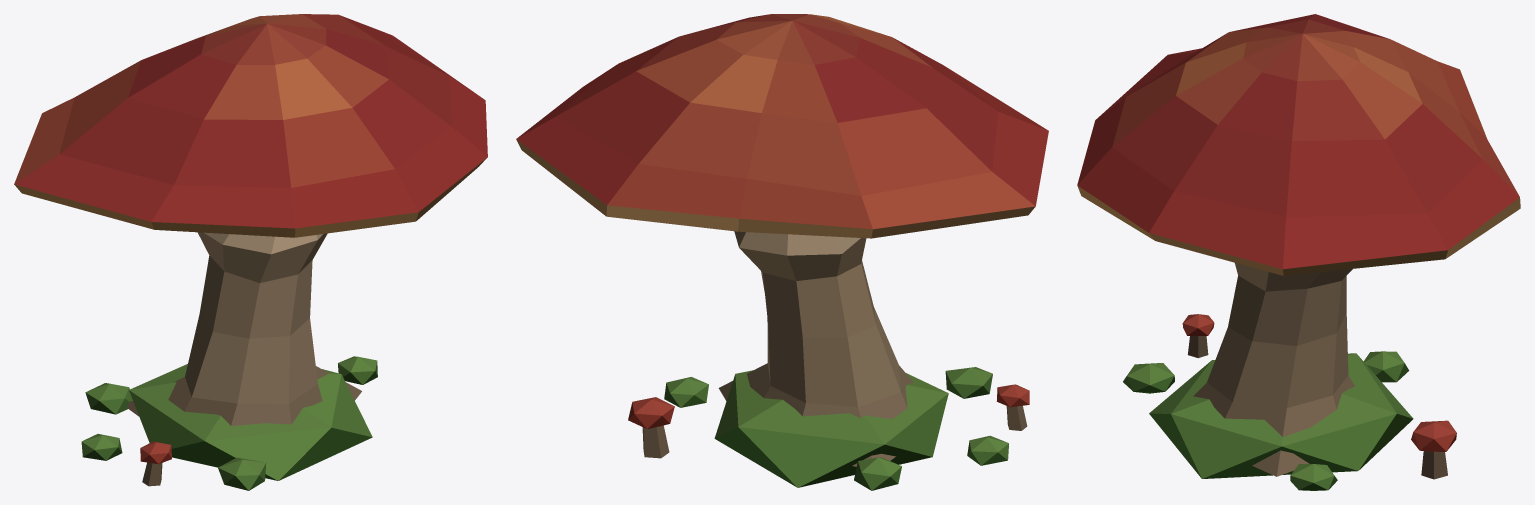
The model's file is Giant_Toadstool.glb.
3 renders of one model, left to right at view 1: azimuth 30°, elevation 25°; view 2: azimuth 150°, elevation 25°; view 3: azimuth 270°, elevation 25°, orthographic. The views are drawn at different scales.
Visible parts, largest first — view 1: Giant_Toadstool; view 2: Giant_Toadstool; view 3: Giant_Toadstool.
Boxes of the visible parts, x1,y1,x2,y2 form: Giant_Toadstool: (14,14,487,490); Giant_Toadstool: (516,14,1048,490); Giant_Toadstool: (1077,14,1520,490).
Bounding box in the file's own units: 3.57 × 3.13 × 2.87.
